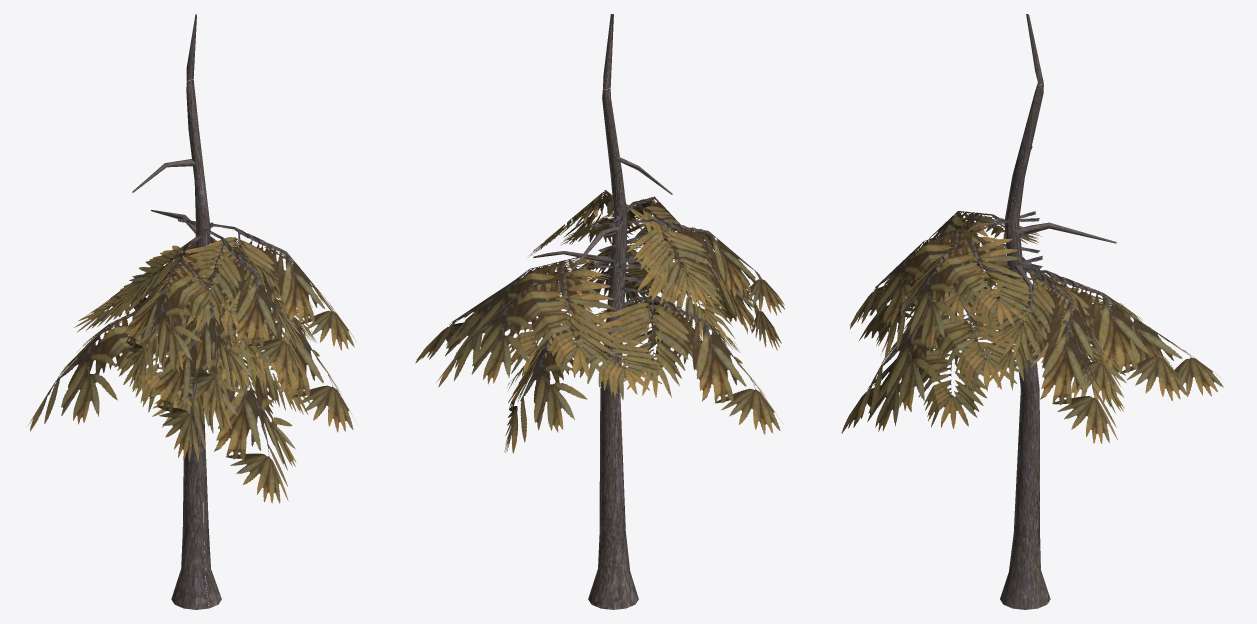
3 views of the same model, side by side, from view 1: azimuth 30°, elevation 25°; view 2: azimuth 150°, elevation 25°; view 3: azimuth 270°, elevation 25° (orthographic).
Visible parts, largest first — view 1: tree1; view 2: tree1; view 3: tree1.
Boxes of the visible parts, box(x1,y1,x2,y2) form: tree1: box(28, 14, 356, 609); tree1: box(415, 14, 785, 609); tree1: box(841, 14, 1223, 609).
Bounding box in the file's own units: 5.48 × 8.77 × 5.64.
Materials: 1 (1 with a texture image).
